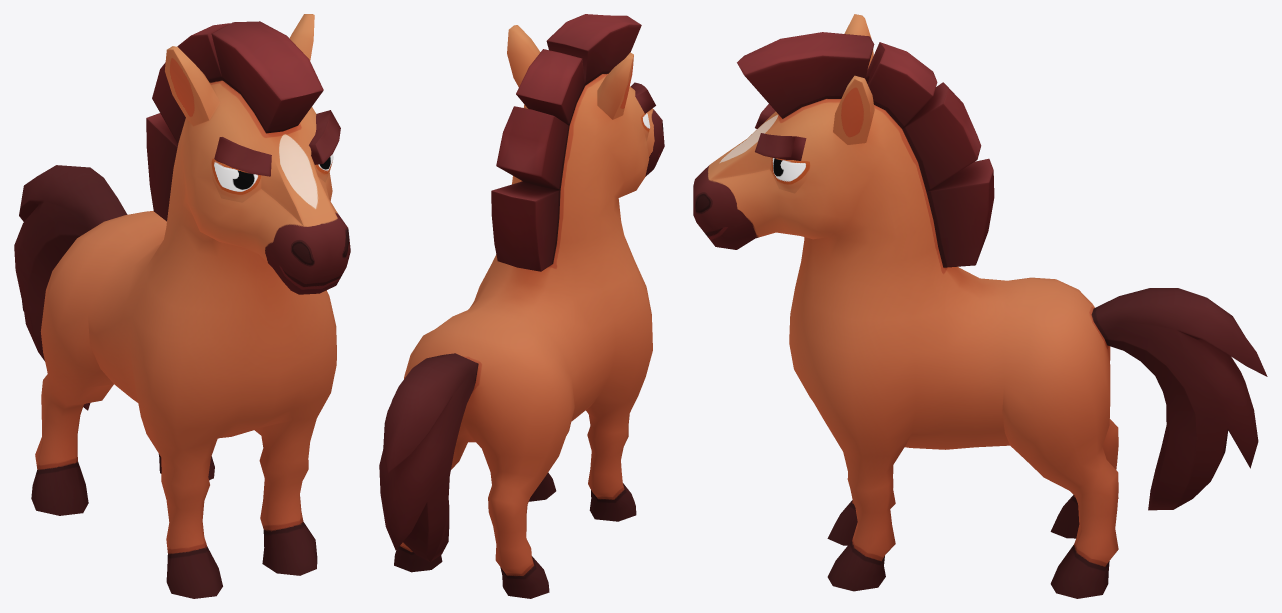
Rendered from FarmAnimals_Horse.gltf.
3 views of the same model, side by side, from view 1: azimuth 30°, elevation 25°; view 2: azimuth 150°, elevation 25°; view 3: azimuth 270°, elevation 25° (orthographic). The views are drawn at different scales.
Visible parts, largest first — view 1: FarmAnimals_Horse; view 2: FarmAnimals_Horse; view 3: FarmAnimals_Horse.
Boxes of the visible parts, x1=… form: FarmAnimals_Horse: x1=14, y1=14, x2=350, y2=598; FarmAnimals_Horse: x1=379, y1=14, x2=664, y2=598; FarmAnimals_Horse: x1=693, y1=14, x2=1267, y2=598.
Size of the model in its own units: 0.4594 by 1.3 by 1.31.
1 material, 1 textured.
